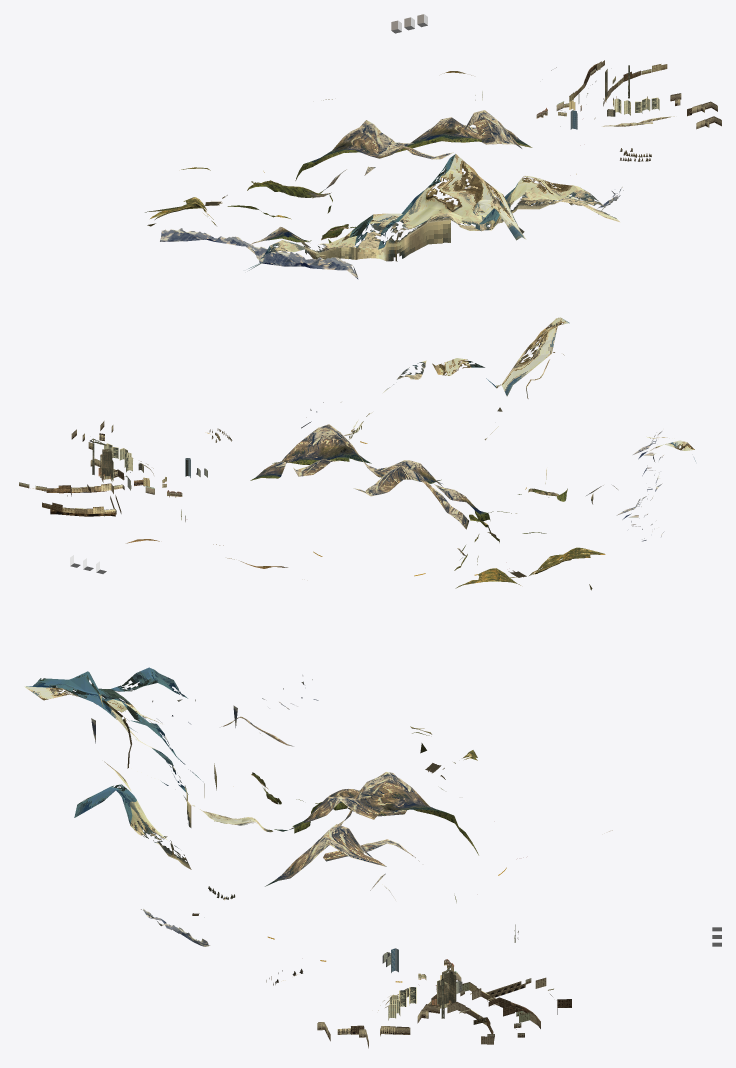
File: track-EU_C2_V1_env.glb
The picture shows the model from 3 angles, top to bottom: view 1: azimuth 30°, elevation 25°; view 2: azimuth 150°, elevation 25°; view 3: azimuth 270°, elevation 25°; orthographic projection. The views are drawn at different scales.
Parts seen in each view (by area): view 1: EU_C2_V1_env; view 2: EU_C2_V1_env; view 3: EU_C2_V1_env.
Part boxes in pixels (<box>): EU_C2_V1_env: <box>145,14,721,279</box>; EU_C2_V1_env: <box>19,317,695,590</box>; EU_C2_V1_env: <box>24,667,721,1048</box>.
Bounding box in the file's own units: 4786 × 986 × 3857.
Materials: 52 (51 with a texture image).
